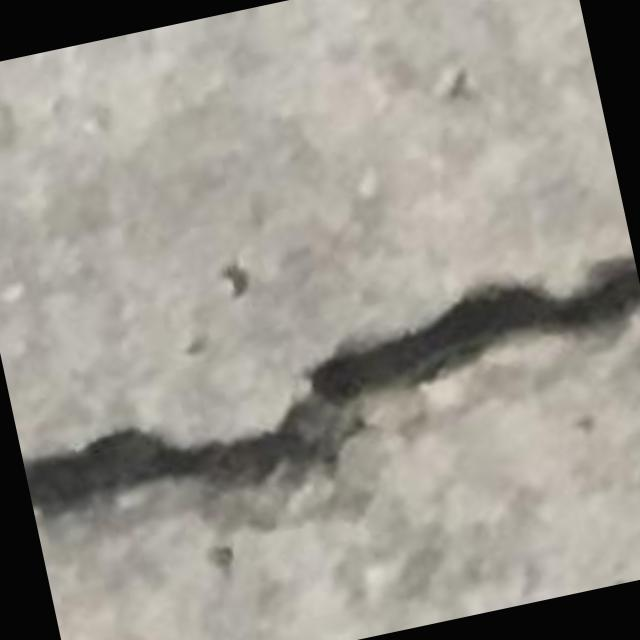crack: (24, 259, 639, 522)
